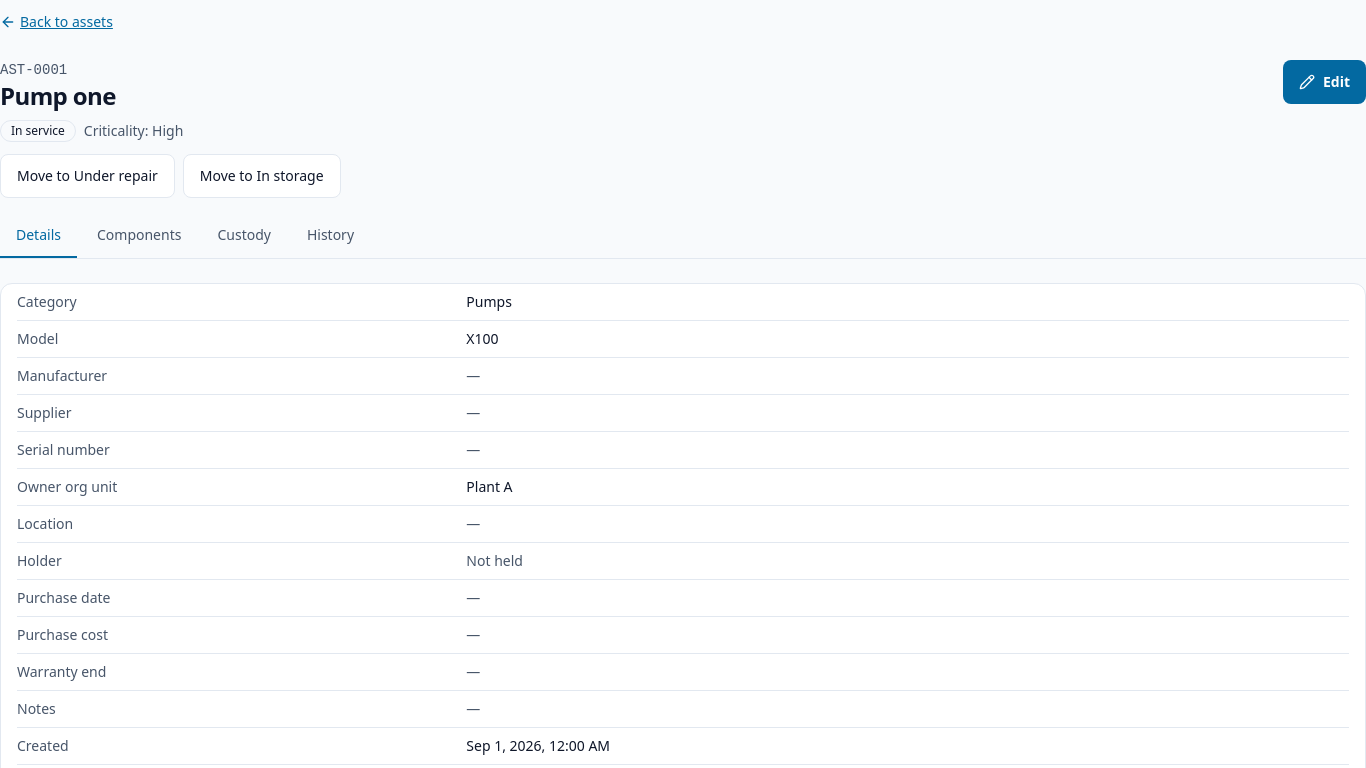
status menu › shows the API's message when the change is refused
Step 1. Click the button "Move to In storage" → [262, 176], box [183,154,341,198]
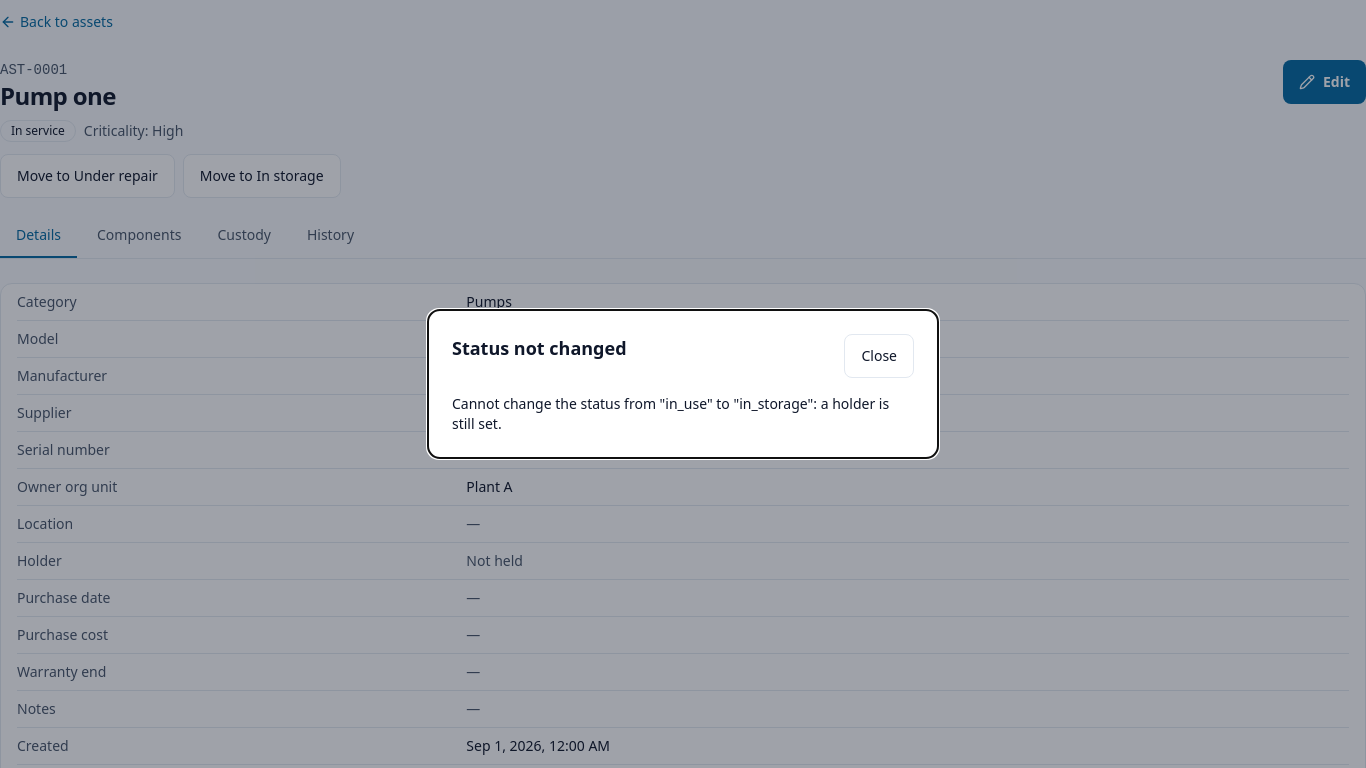
Result: the text "a holder is still set" is shown at [452,394,889,433]
